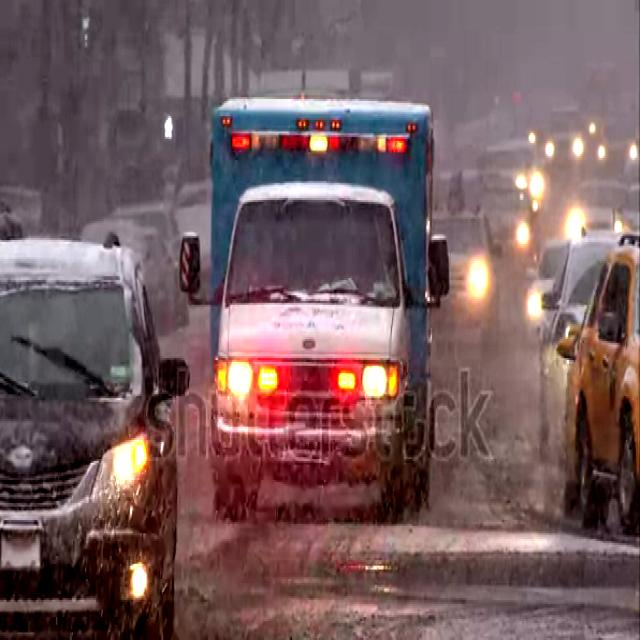ambulance: (178, 99, 456, 518)
